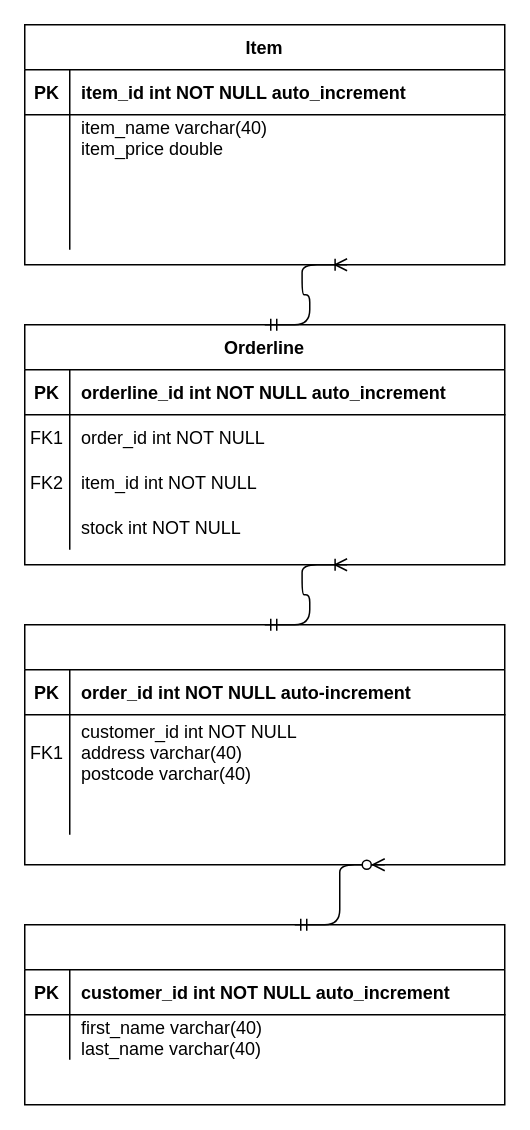
This 530x1130 diagram has some shape labels left out. Here are the shapes that lost their labels. From the top down, the box of each, then its label:
(23, 623, 505, 865): Orders
(23, 923, 505, 1105): Customers
